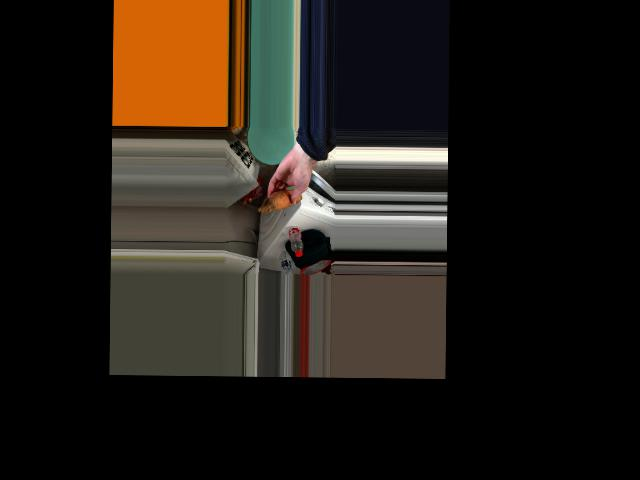sweet_potato: (270, 190, 297, 210)
